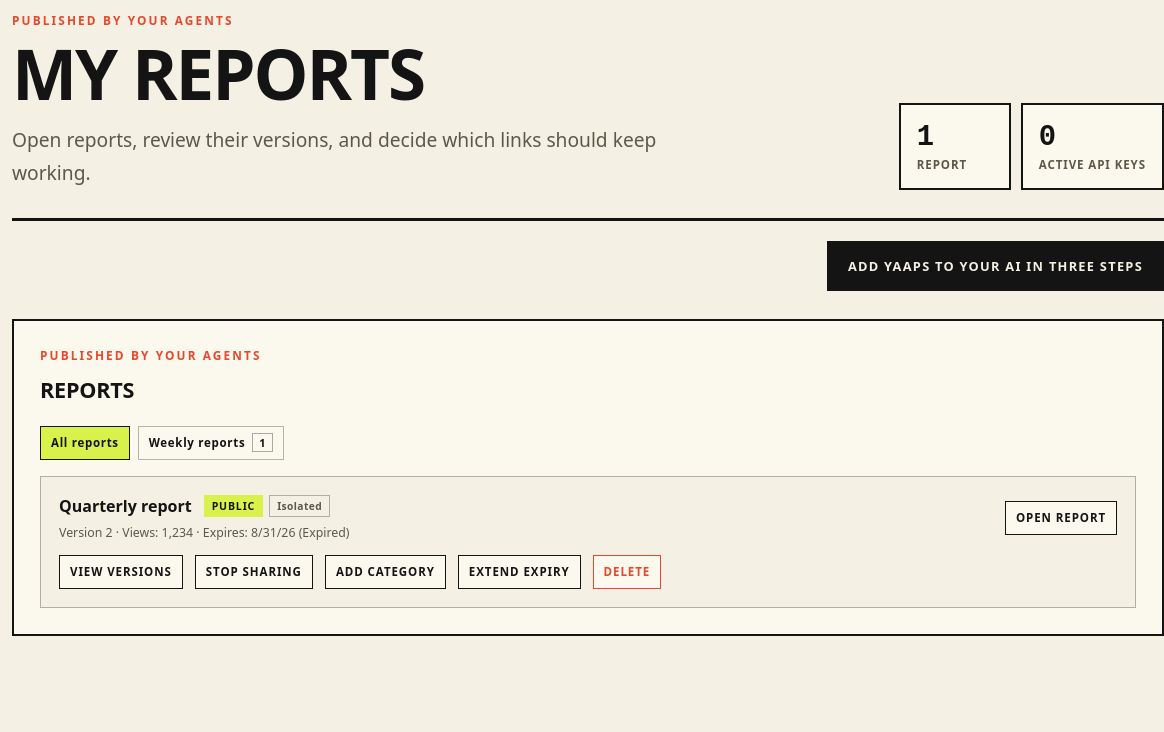
Test: signed-in management dashboard › names the filtered category when no report matches it
Click the button "Weekly reports 1": coordinates (211, 443) x1=138 y1=426 x2=284 y2=460
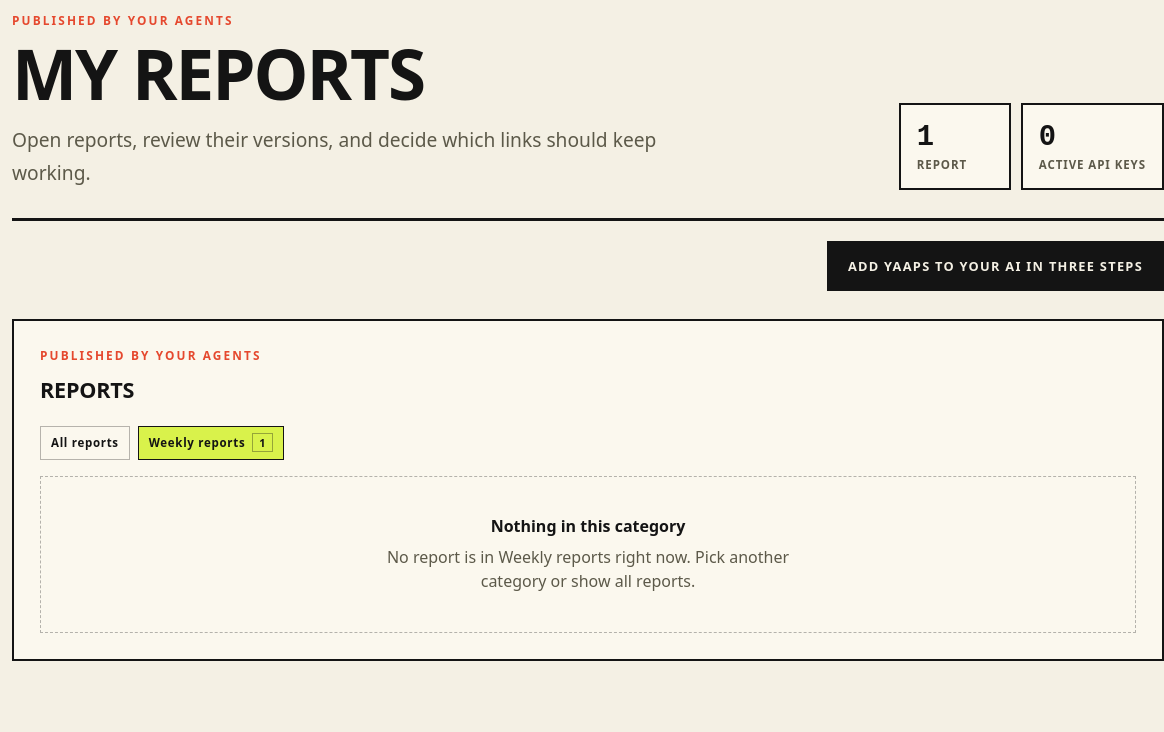
Result: the text "Nothing in this category" is shown at x1=491 y1=515 x2=685 y2=537
